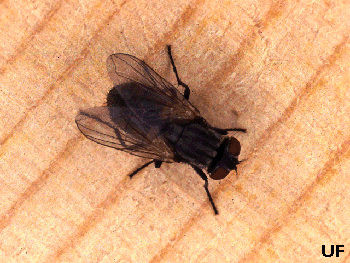fly: (67, 39, 250, 221)
